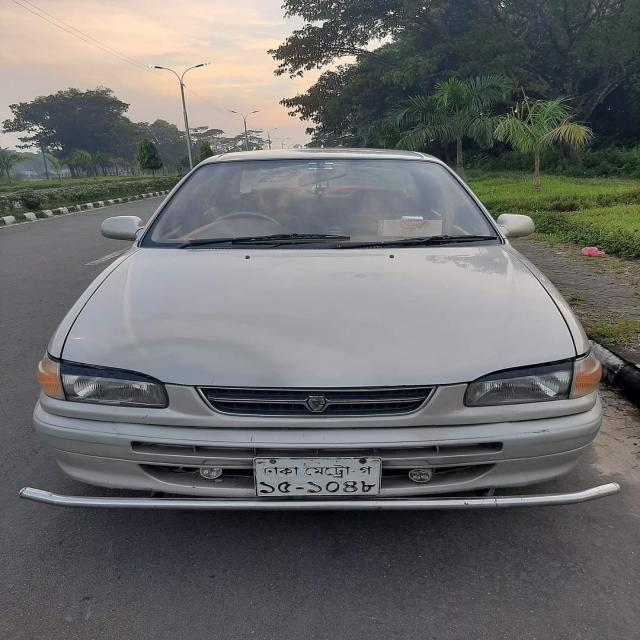white: (26, 142, 617, 509)
